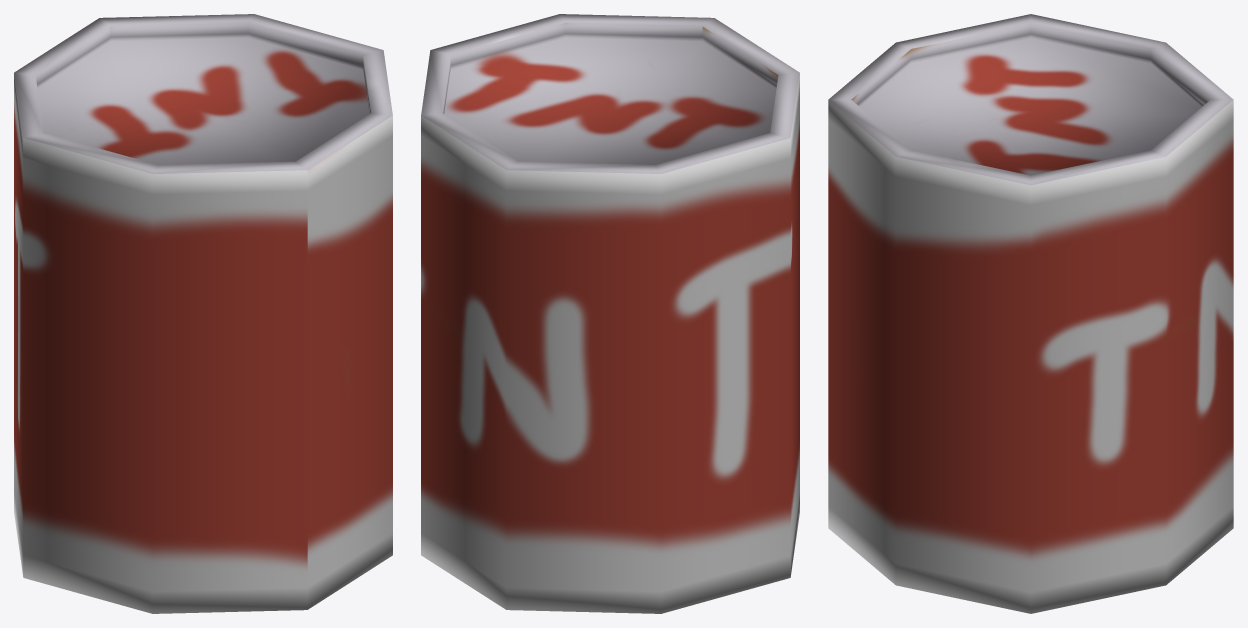
The model's file is Barrel.glb.
3 views of the same model, side by side, from view 1: azimuth 30°, elevation 25°; view 2: azimuth 150°, elevation 25°; view 3: azimuth 270°, elevation 25° (orthographic). The views are drawn at different scales.
Visible parts, largest first — view 1: Cube; view 2: Cube; view 3: Cube.
Boxes of the visible parts, left/top/right/bottom form: Cube: left=14, top=14, right=392, bottom=613; Cube: left=421, top=14, right=799, bottom=613; Cube: left=828, top=14, right=1233, bottom=613.
Bounding box in the file's own units: 3 × 3.5 × 3.
Materials: 1 (1 with a texture image).
